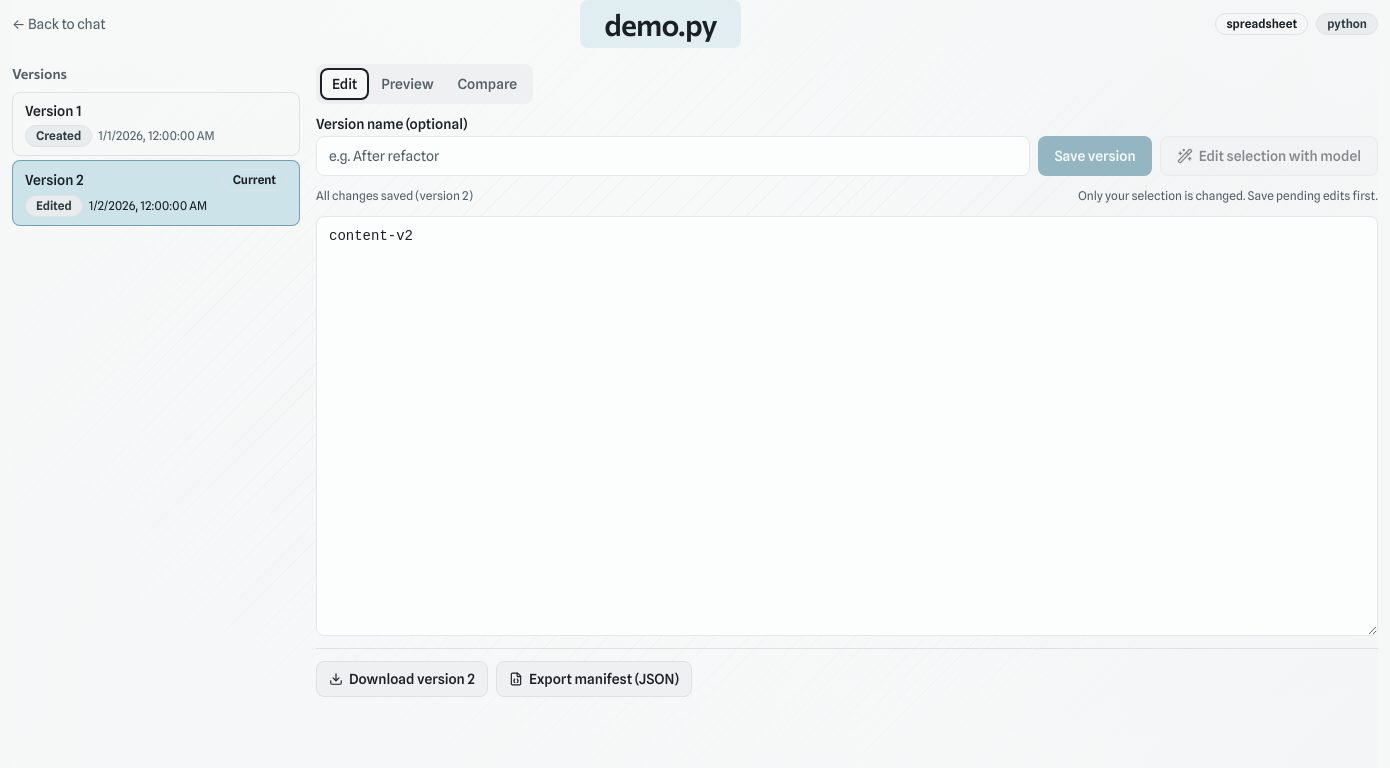
Test: CanvasPage preview tab › shows the explicit unsupported-format label for unknown kinds
This screenshot has width=1390, height=768.
Expected: the text box named "Canvas content editor" is shown, [316,216,1378,636]
Click the tab with aria-label "Preview tab".
click(407, 84)  # box [369,68,446,100]
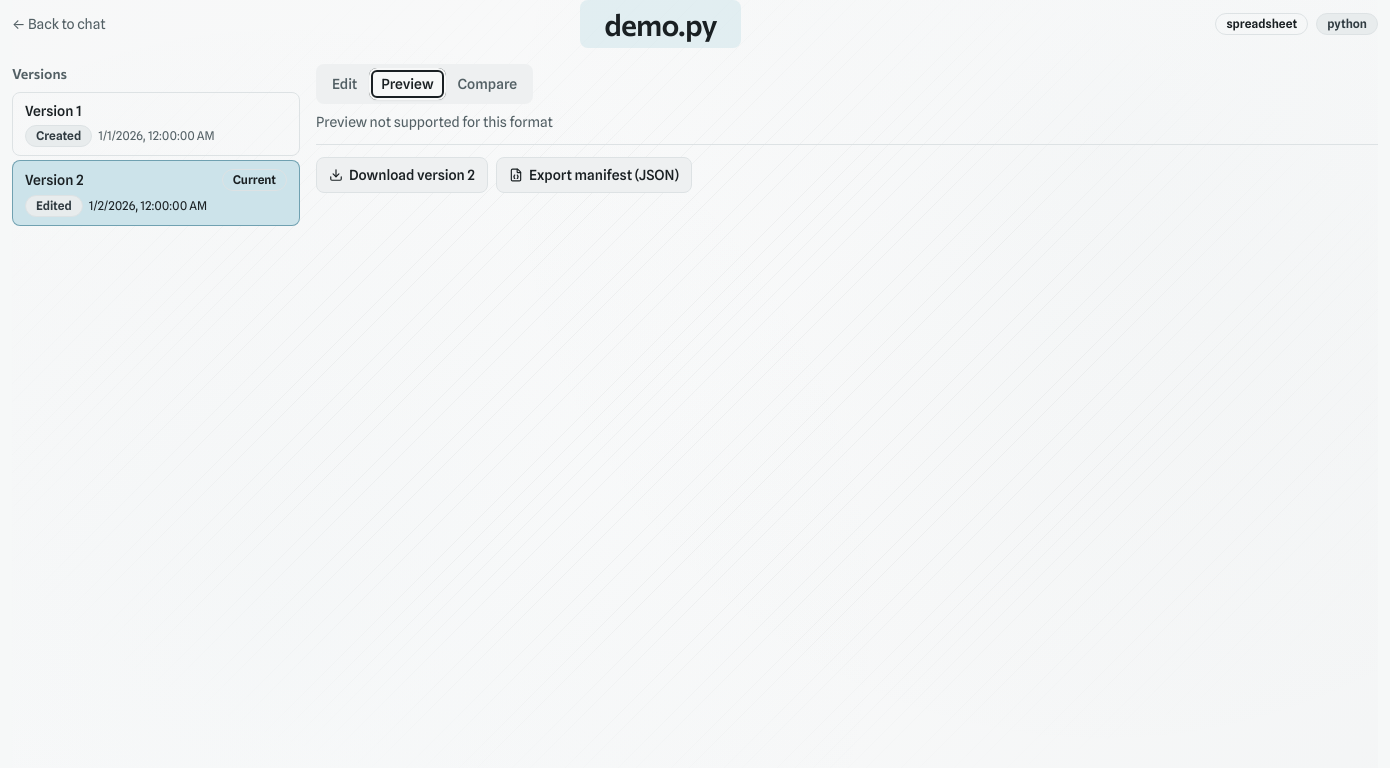
Result: the text "Preview not supported for this format" is shown at [316,114,553,130]
